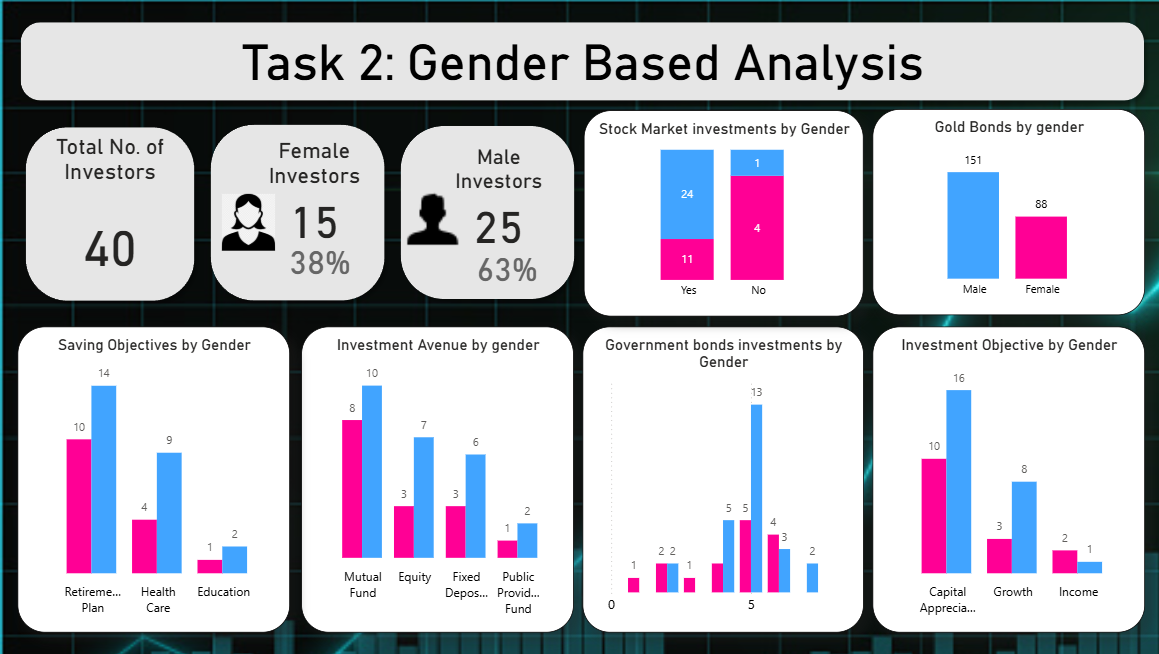

This screenshot's page, from the dashboard's own definition file:
{"tool":"powerbi","page":{"name":"Gender Based Analysis","canvas":[1280,720],"ordinal":0},"visuals":[{"type":"shape","box":[430.7,130.5,208.8,208.3],"z":0,"group":"g3"},{"type":"image","box":[430.7,145.6,86.5,187.2],"z":1000,"group":"g3"},{"type":"shape","box":[222.3,129,209.1,211.3],"z":2000,"group":"g2"},{"type":"shape","box":[19.2,131.7,203.1,208.6],"z":2000,"group":"g1"},{"type":"image","box":[238.1,171.3,67.8,146.4],"z":3000,"group":"g2"},{"type":"shape","box":[13.7,16.5,1251.5,104.3],"z":4000},{"type":"card","title":"Total No. of Investors","fields":{"Values":["Data_set 2.total investors"]},"box":[34.1,147.8,173.2,184.3],"z":4000,"group":"g1"},{"type":"group","id":"g1","title":"Group 1","box":[19.2,131.7,203.1,208.6],"z":5000},{"type":"card","title":"Female Investors","fields":{"Values":["Data_set 2.Female investors"]},"box":[259.1,152,171.7,120.8],"z":6000,"group":"g2"},{"type":"card","title":"Male Investors","fields":{"Values":["Data_set 2.Male investors"]},"box":[469.1,159.2,156.6,119.2],"z":7000,"group":"g3"},{"type":"clusteredColumnChart","title":"Investment Avenue  by gender","fields":{"Category":["Data_set 2.Avenue"],"Y":["Data_set 2.Female investors","Data_set 2.Male investors"]},"box":[330.7,359.5,299.1,336.2],"z":8000},{"type":"clusteredColumnChart","title":"Government bonds investments by Gender","fields":{"Category":["Data_set 2.Government_Bonds"],"Y":["Data_set 2.Female investors","Data_set 2.Male investors"]},"box":[639.5,359.5,308.7,336.2],"z":9000},{"type":"actionButton","box":[0,0,100,40],"z":10000},{"type":"hundredPercentStackedColumnChart","title":"Stock Market investments by Gender","fields":{"Y":["Data_set 2.Female investors","Data_set 2.Male investors"],"Category":["Data_set 2.Stock_Marktet"]},"box":[640.8,122.1,307.4,226.4],"z":11000},{"type":"clusteredColumnChart","title":"Saving Objectives by Gender","fields":{"Category":["Data_set 2.What are your savings objectives?"],"Y":["Data_set 2.Female investors","Data_set 2.Male investors"]},"box":[19.2,359.5,299.1,336.2],"z":12000},{"type":"clusteredColumnChart","title":"Gold Bonds by gender","fields":{"Y":["Sum(Data_set 2.Gold)"],"Category":["Data_set 2.gender"]},"box":[957.8,120.8,299.1,226.4],"z":13000},{"type":"card","fields":{"Values":["Data_set 2.% male"]},"box":[513.1,267.9,87.9,51.3],"z":14000,"group":"g3"},{"type":"card","fields":{"Values":["Data_set 2.%female"]},"box":[273.4,251.3,158,70.9],"z":15000,"group":"g2"},{"type":"group","id":"g2","title":"Group 2","box":[222.3,129,209.1,211.3],"z":15001,"group":"g3"},{"type":"group","id":"g3","title":"Group 3","box":[222.3,129,417.2,211.3],"z":15002},{"type":"clusteredColumnChart","title":"Investment Objective by Gender","fields":{"Category":["Data_set 2.Objective"],"Y":["Data_set 2.Female investors","Data_set 2.Male investors"]},"box":[957.8,359.5,299.1,336.2],"z":15003}]}

Visuals, with their boxes in screenshot pixels (x1, y1, x2, y2), scaled from the page's 1280x720 canvas onto the 1159x654 screenshot:
shape: (left=390, top=119, right=579, bottom=308)
image: (left=390, top=132, right=468, bottom=302)
shape: (left=201, top=117, right=391, bottom=309)
shape: (left=17, top=120, right=201, bottom=309)
image: (left=216, top=156, right=277, bottom=289)
shape: (left=12, top=15, right=1146, bottom=110)
"Total No. of Investors" card: (left=31, top=134, right=188, bottom=302)
"Group 1" group: (left=17, top=120, right=201, bottom=309)
"Female Investors" card: (left=235, top=138, right=390, bottom=248)
"Male Investors" card: (left=425, top=145, right=567, bottom=253)
"Investment Avenue  by gender" clusteredColumnChart: (left=299, top=327, right=570, bottom=632)
"Government bonds investments by Gender" clusteredColumnChart: (left=579, top=327, right=859, bottom=632)
actionButton: (left=0, top=0, right=91, bottom=36)
"Stock Market investments by Gender" hundredPercentStackedColumnChart: (left=580, top=111, right=859, bottom=317)
"Saving Objectives by Gender" clusteredColumnChart: (left=17, top=327, right=288, bottom=632)
"Gold Bonds by gender" clusteredColumnChart: (left=867, top=110, right=1138, bottom=315)
card - Data_set 2.% male: (left=465, top=243, right=544, bottom=290)
card - Data_set 2.%female: (left=248, top=228, right=391, bottom=293)
"Group 2" group: (left=201, top=117, right=391, bottom=309)
"Group 3" group: (left=201, top=117, right=579, bottom=309)
"Investment Objective by Gender" clusteredColumnChart: (left=867, top=327, right=1138, bottom=632)
